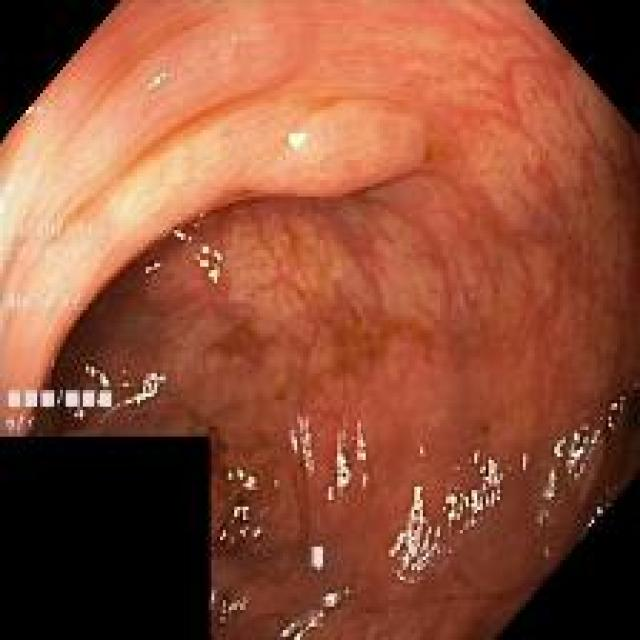Polyps: (245, 99, 425, 196)
